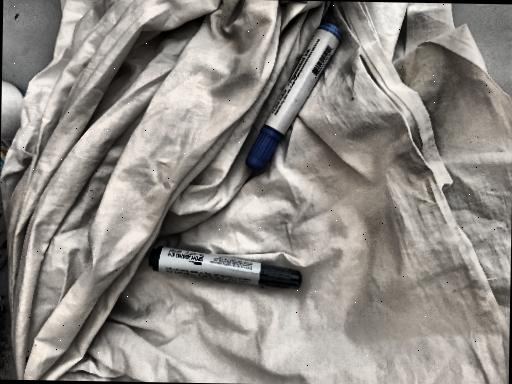marcador azul: (246, 24, 340, 171)
marcador negro: (149, 247, 302, 289)
